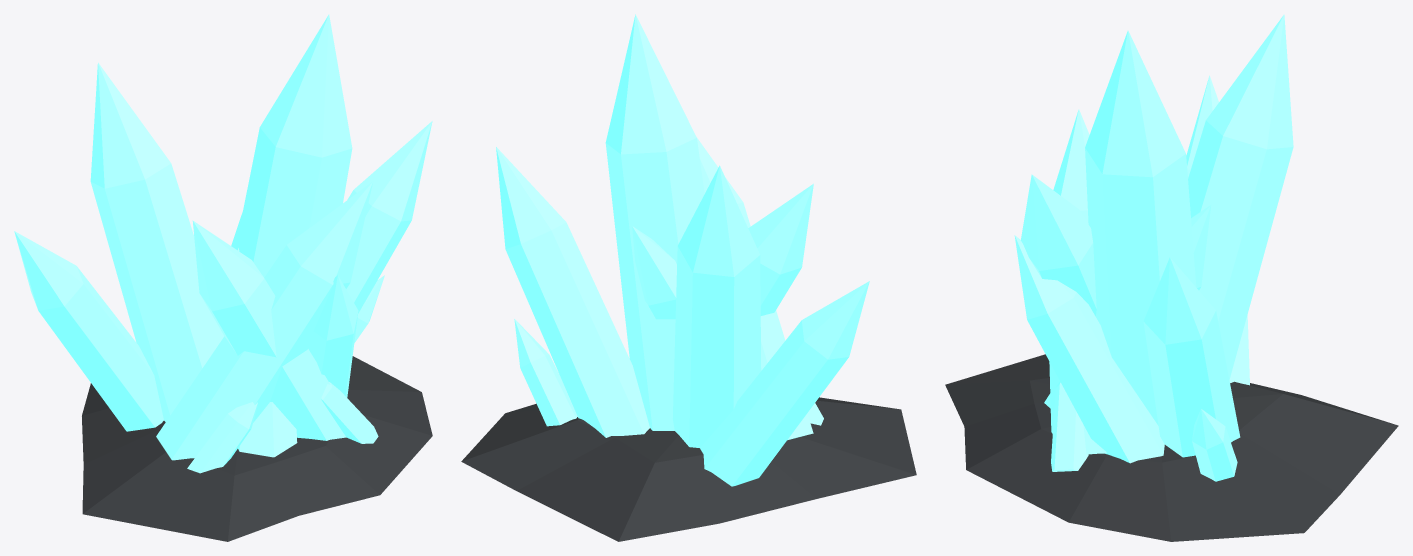
File: macro_crystal_cluster_b.glb
3 renders of one model, left to right at view 1: azimuth 30°, elevation 25°; view 2: azimuth 150°, elevation 25°; view 3: azimuth 270°, elevation 25°, orthographic. The views are drawn at different scales.
Parts seen in each view (by area): view 1: Macro_Crystal_Cluster_B; view 2: Macro_Crystal_Cluster_B; view 3: Macro_Crystal_Cluster_B.
Boxes of the visible parts, x1=… form: Macro_Crystal_Cluster_B: x1=14, y1=14, x2=432, y2=541; Macro_Crystal_Cluster_B: x1=461, y1=14, x2=916, y2=541; Macro_Crystal_Cluster_B: x1=945, y1=14, x2=1398, y2=541.
Bounding box in the file's own units: 2.49 × 2.54 × 2.27.
